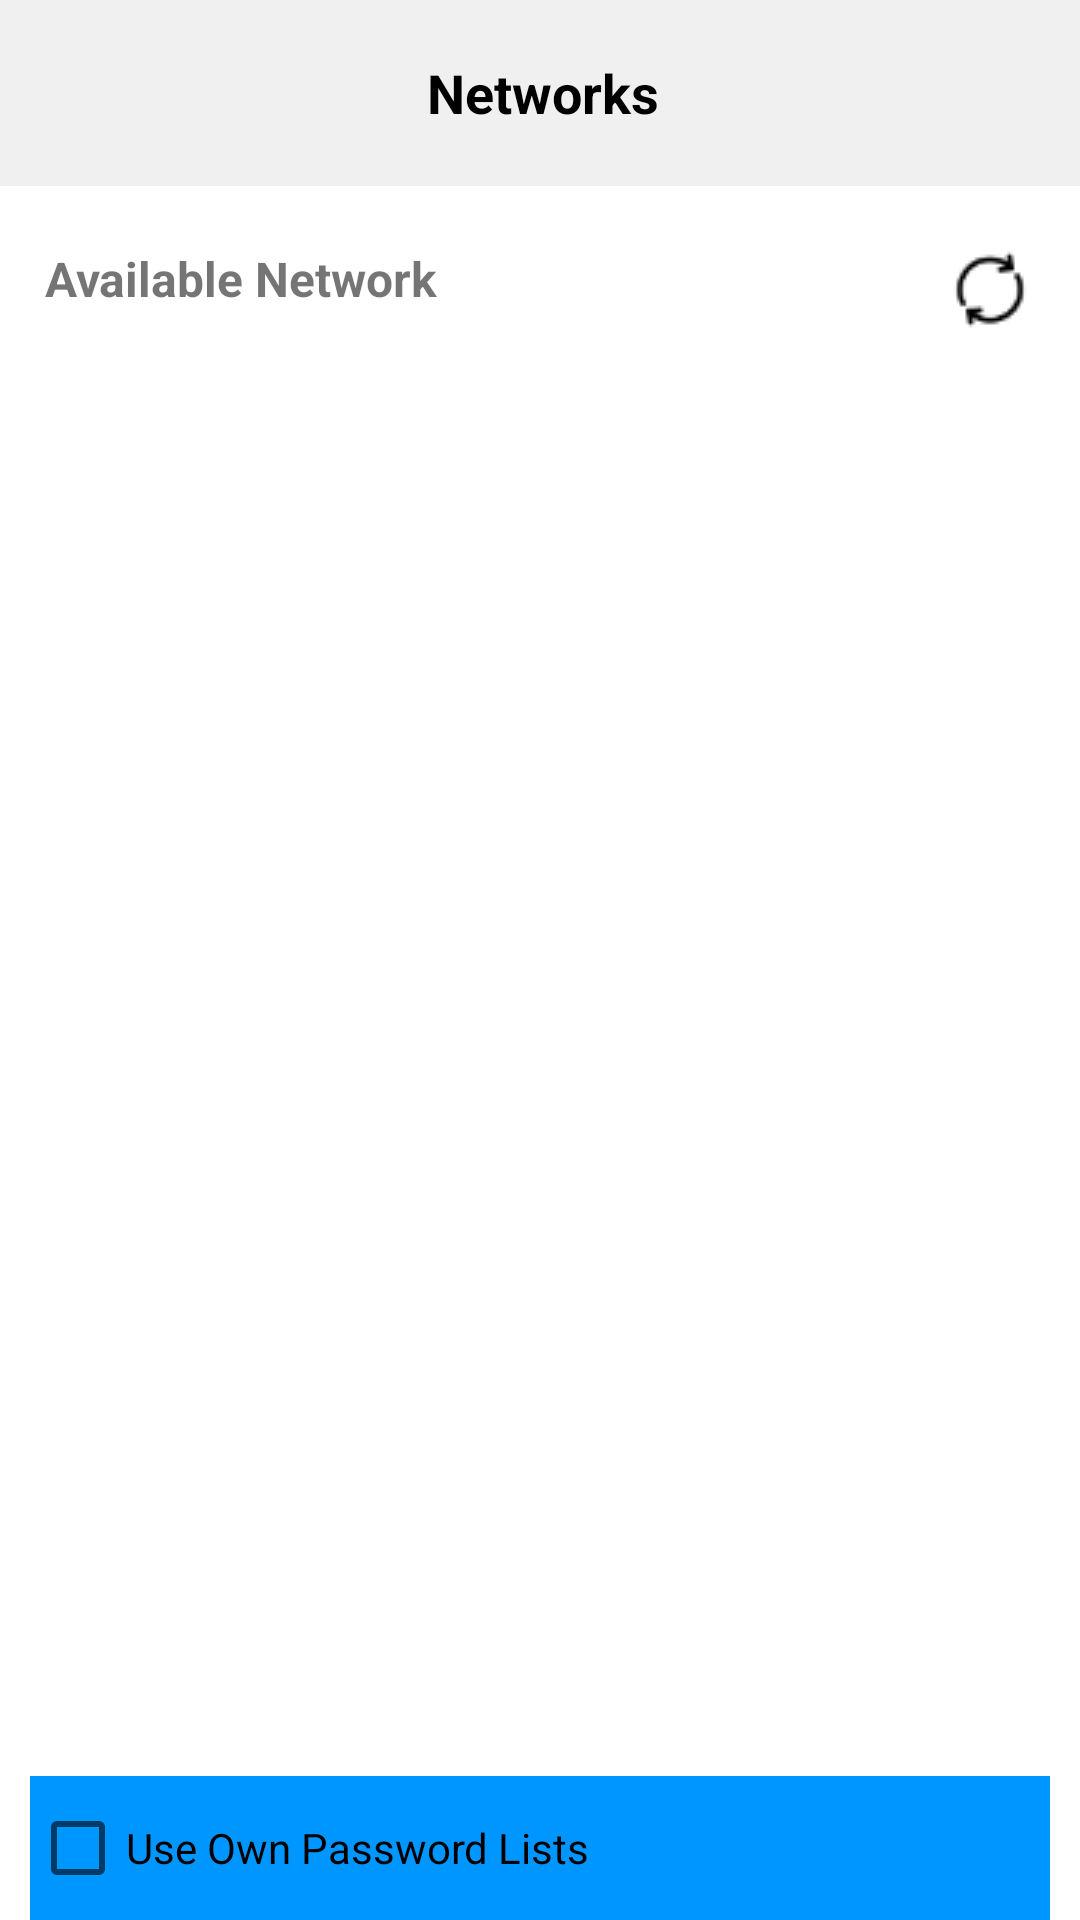

Icons on this 1080w x 1920h Android screen, each with the point to tap as (x=x, y=y):
refresh: (x=990, y=289)
